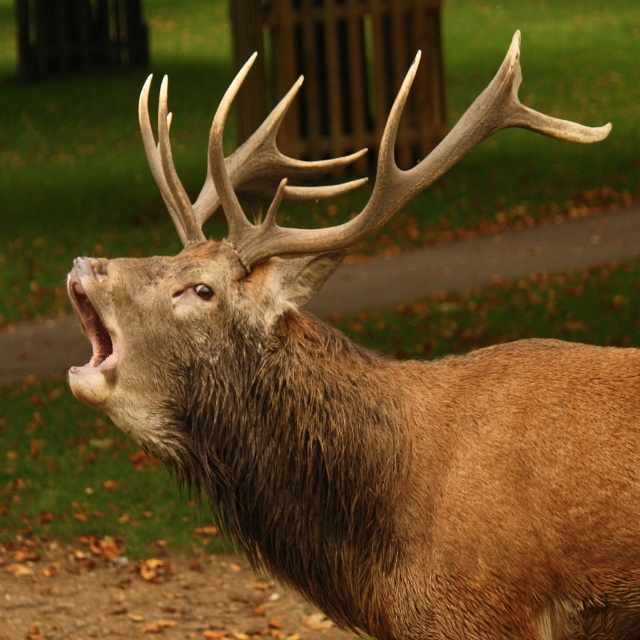Deer: (61, 30, 640, 640)
